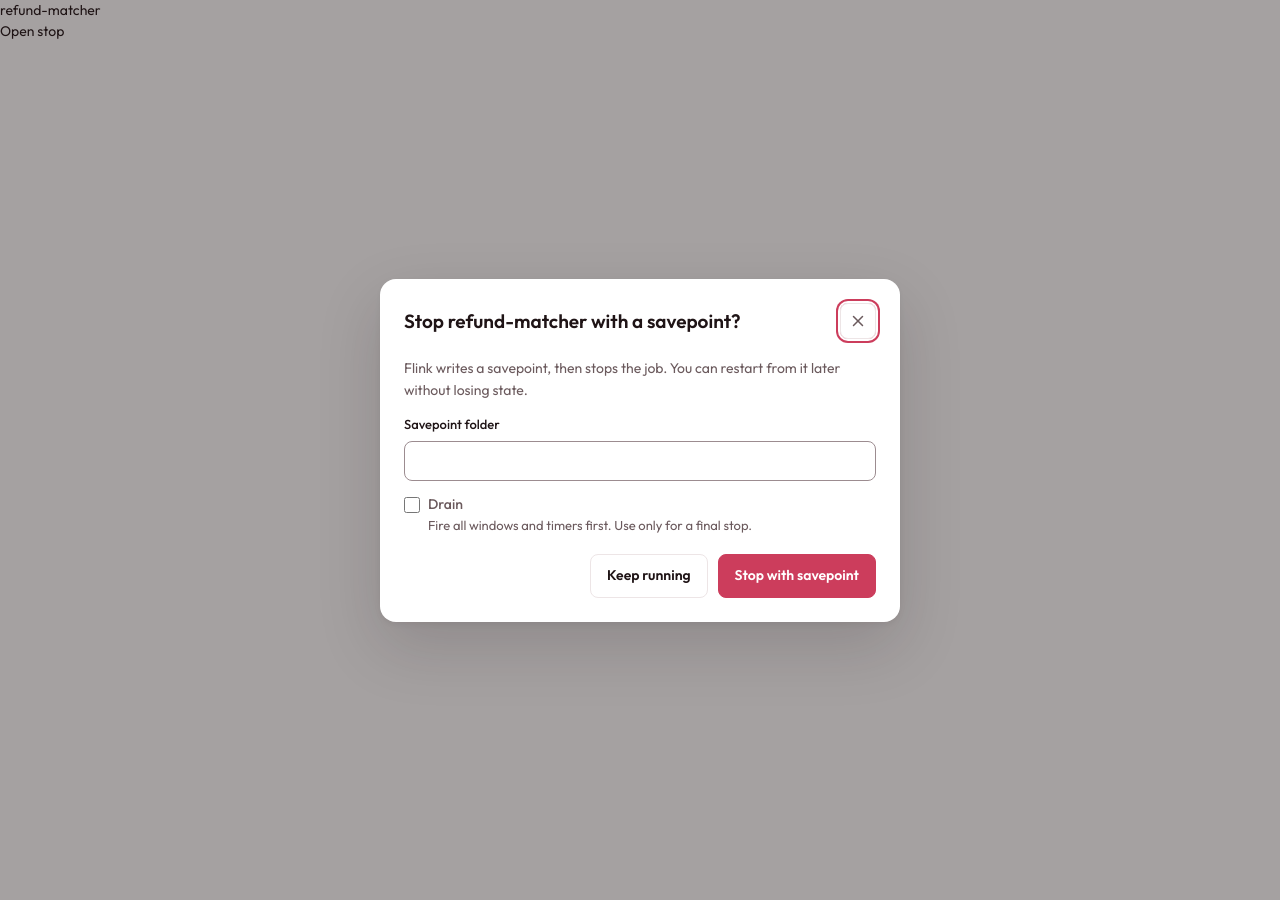
Test: ACT-01 · stop with savepoint (D15, D15b, D15c, D15d) › no default and no folder: SP-DIR-MISSING on the field, nothing sent
The image size is (1280, 900).
Check: the field labelled "Savepoint folder" is shown, box [404,440,876,480]
Click the button "Stop with savepoint": [797, 575] box [718,553,876,597]
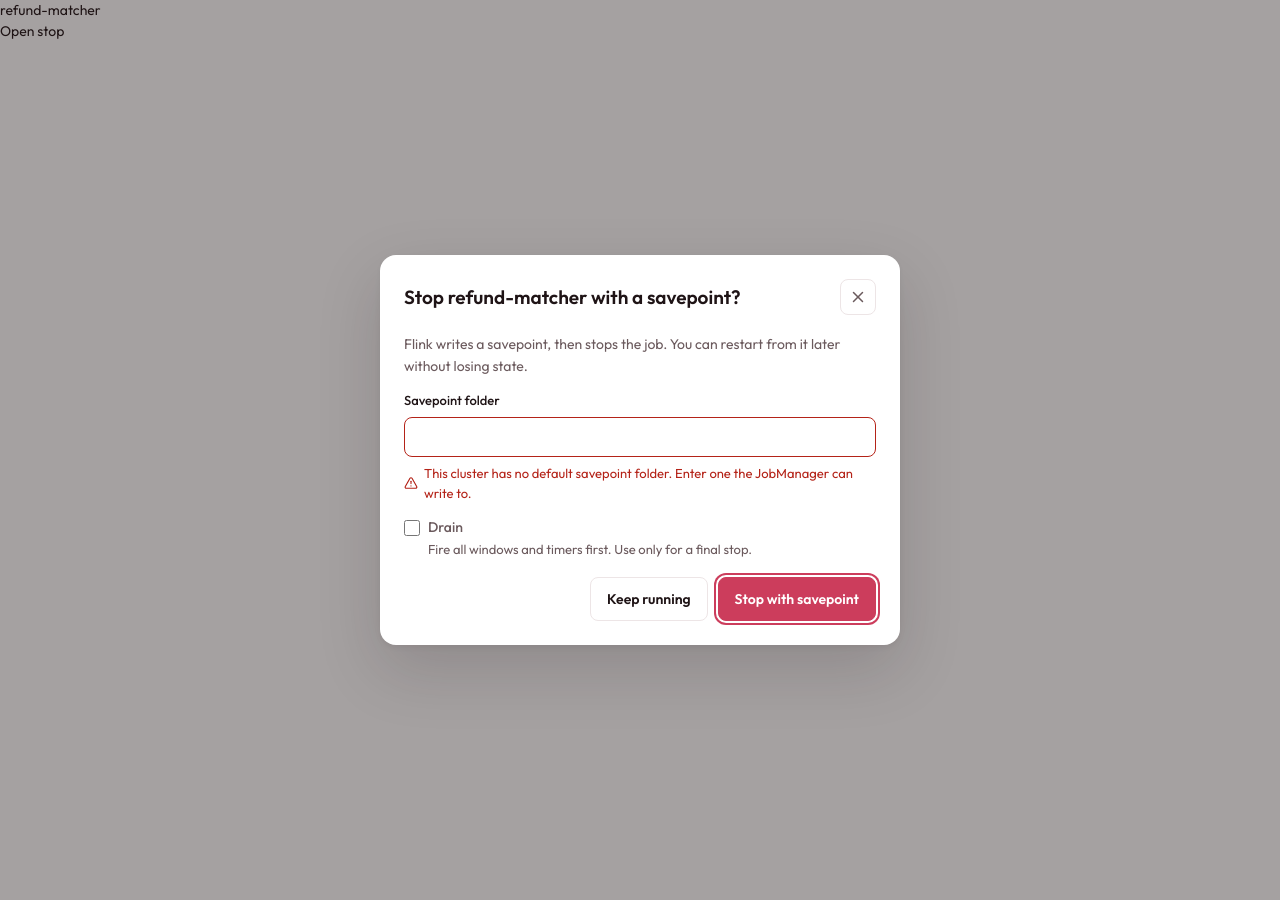
Check: the text "This cluster has no default savepoint folder" is shown, box [424,464,853,501]
